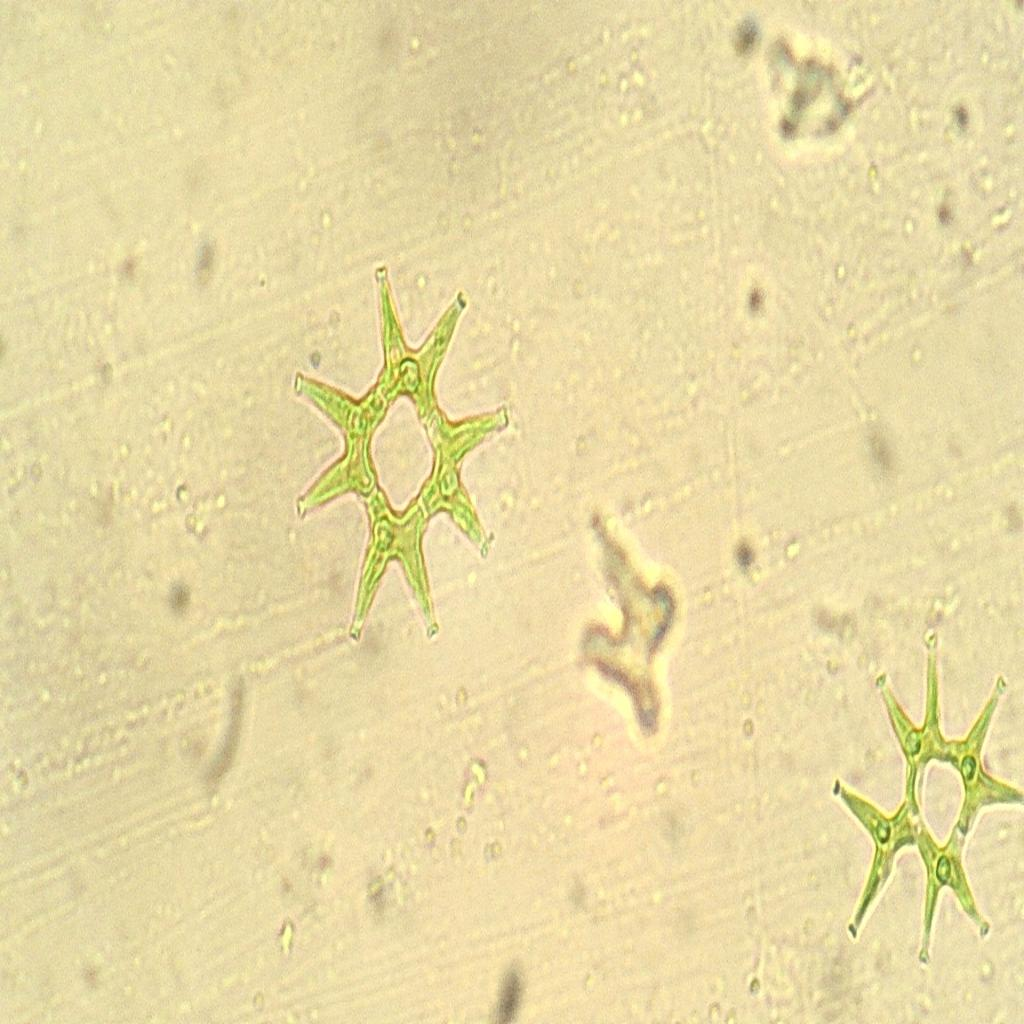Pediastrum_75O: (282, 249, 524, 659)
